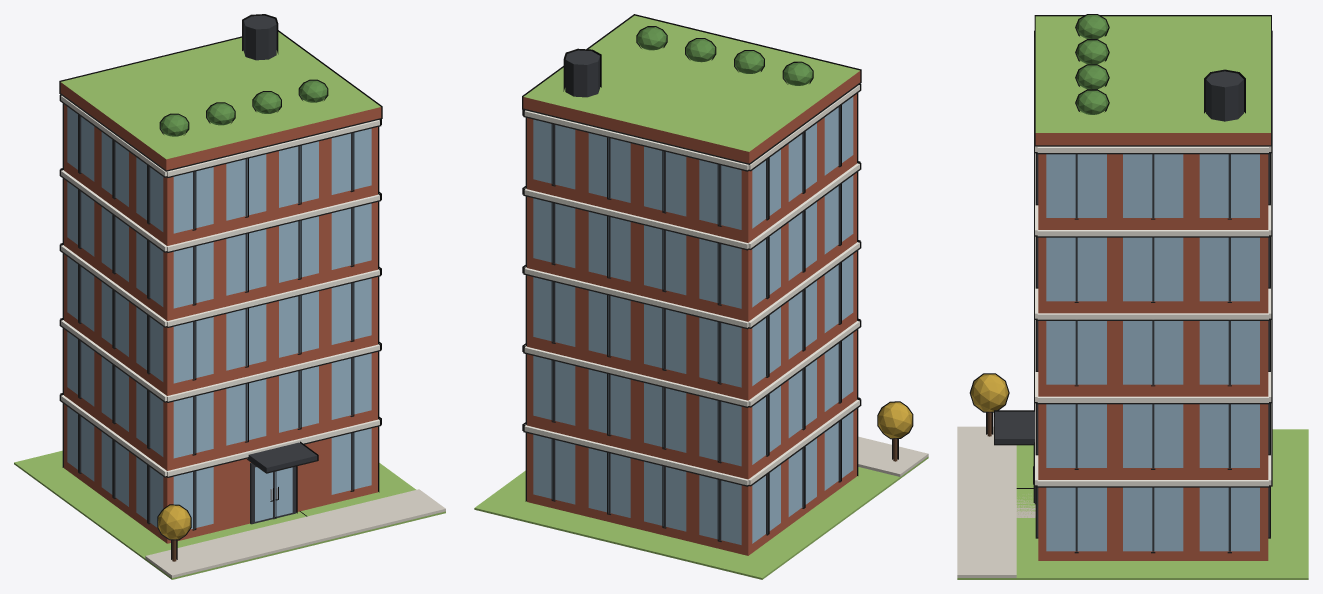
File: Buro_tugla_cam_1.fbx
The picture shows the model from 3 angles, left to right: view 1: azimuth 30°, elevation 25°; view 2: azimuth 150°, elevation 25°; view 3: azimuth 270°, elevation 25°; orthographic projection. The views are drawn at different scales.
Visible parts, largest first — view 1: Buro_tugla_cam_1; view 2: Buro_tugla_cam_1; view 3: Buro_tugla_cam_1.
Part boxes in pixels (box(x1,y1,x2,y2)): Buro_tugla_cam_1: box(14, 14, 445, 579); Buro_tugla_cam_1: box(474, 14, 928, 579); Buro_tugla_cam_1: box(957, 14, 1308, 579).
Size of the model in its own units: 13 by 19.1 by 13.
